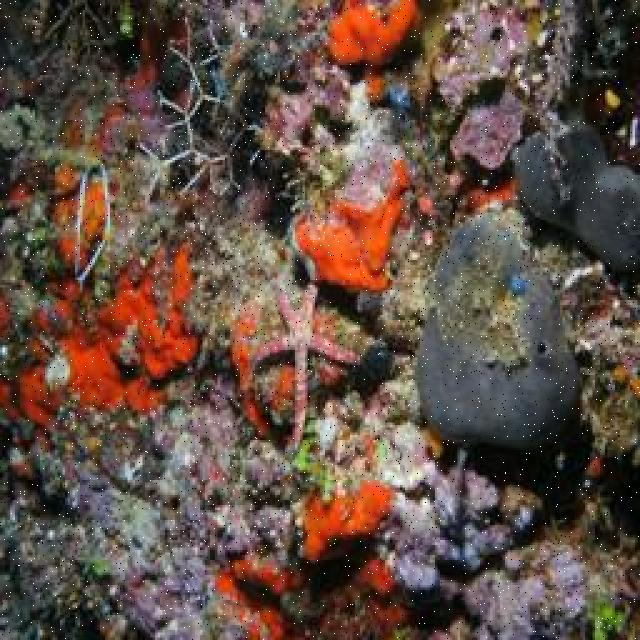reefs: (122, 423, 638, 638), (415, 203, 583, 453), (511, 108, 638, 292), (247, 275, 365, 452)
